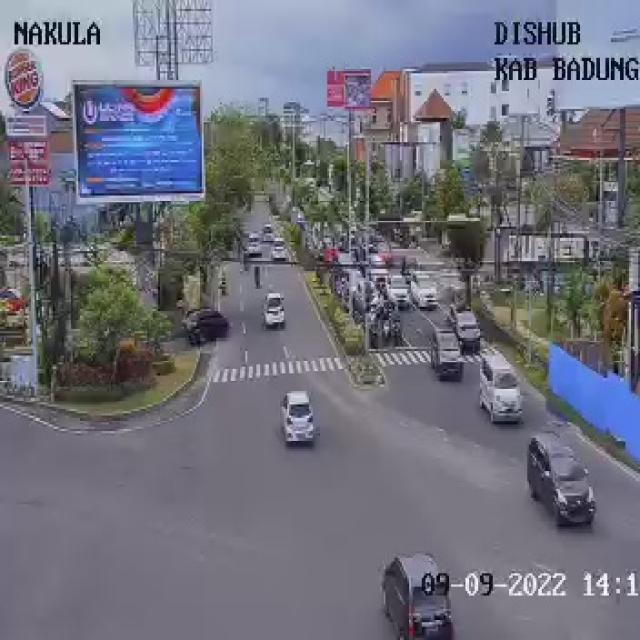car: (528, 432, 596, 525), (382, 554, 452, 639), (480, 352, 522, 422), (282, 391, 316, 445), (431, 328, 464, 381), (185, 309, 229, 344), (455, 311, 481, 353), (410, 271, 438, 309), (388, 275, 410, 309), (264, 292, 284, 328), (388, 288, 411, 309)
